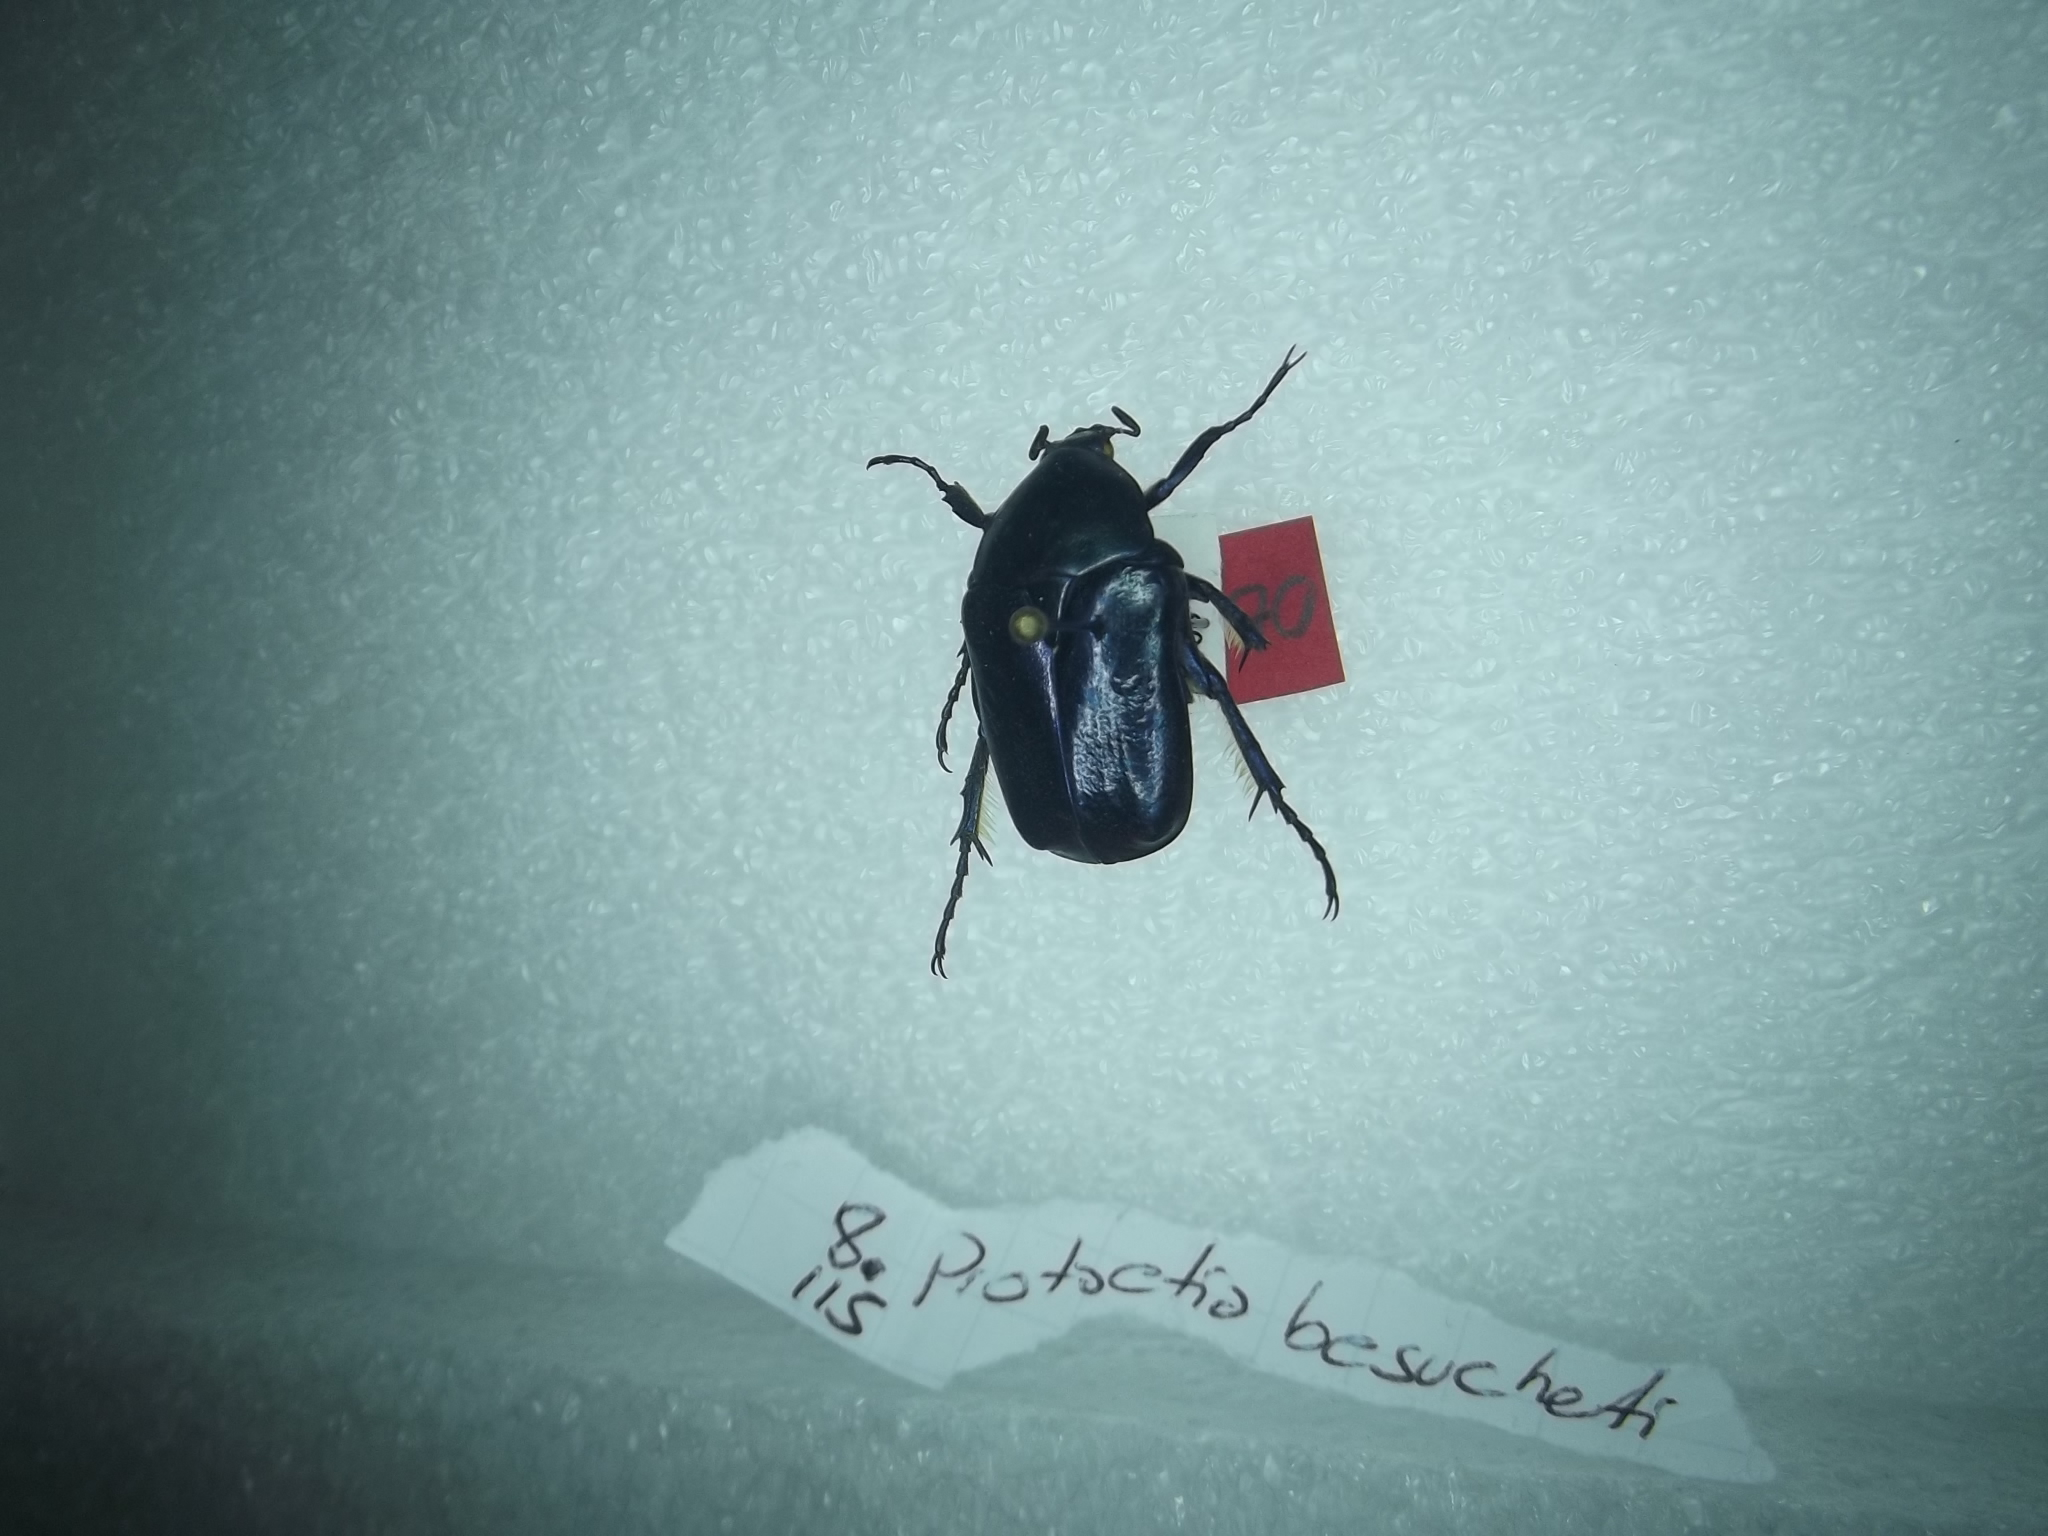Protaetia_besucheti: (850, 315, 1358, 1068)
